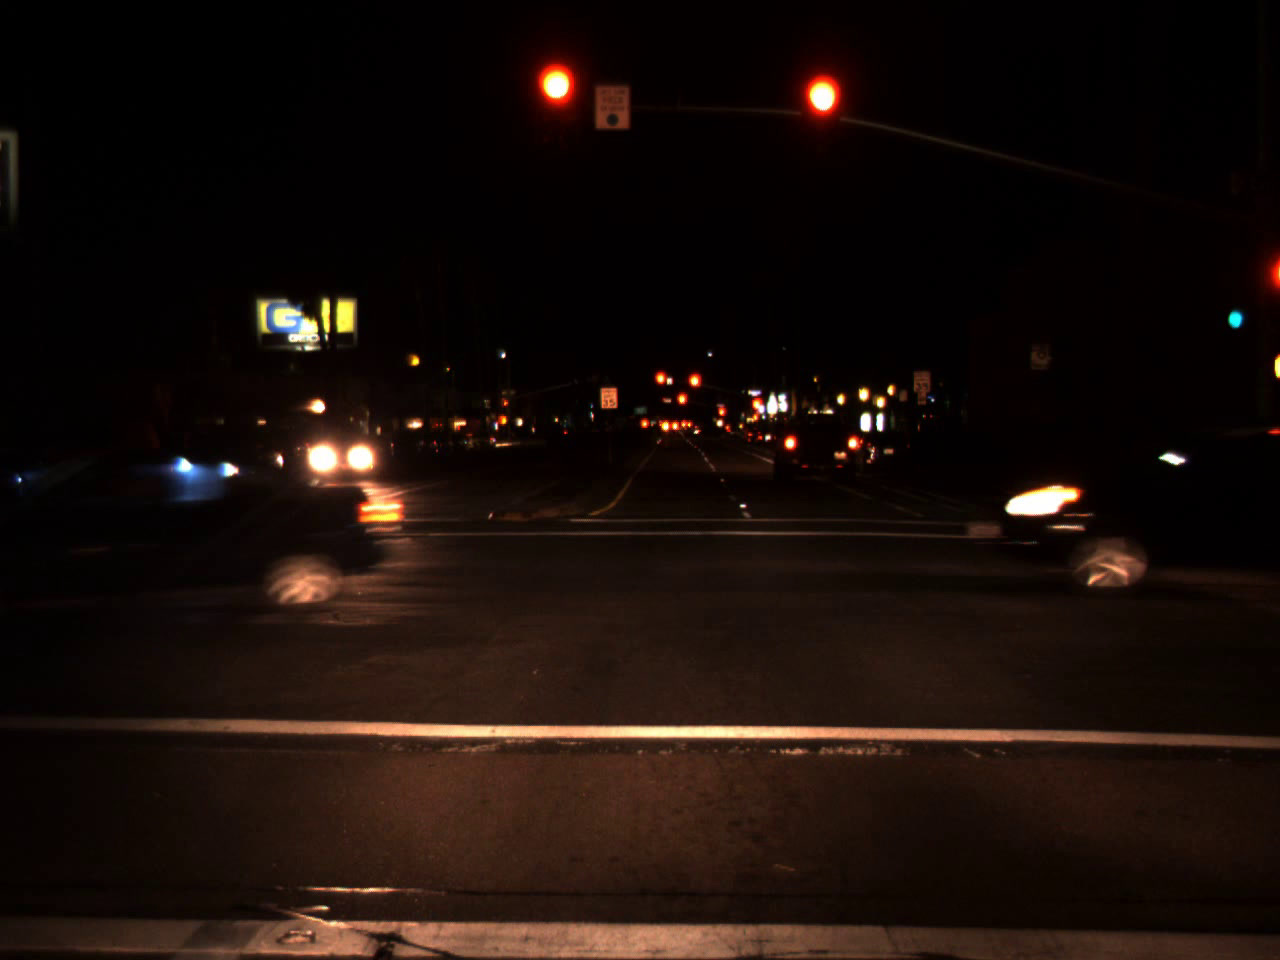stop: (538, 64, 578, 142), (802, 75, 841, 153), (686, 371, 702, 403), (653, 369, 668, 401), (676, 391, 688, 418), (750, 396, 763, 412), (717, 406, 726, 427), (503, 399, 509, 412)
